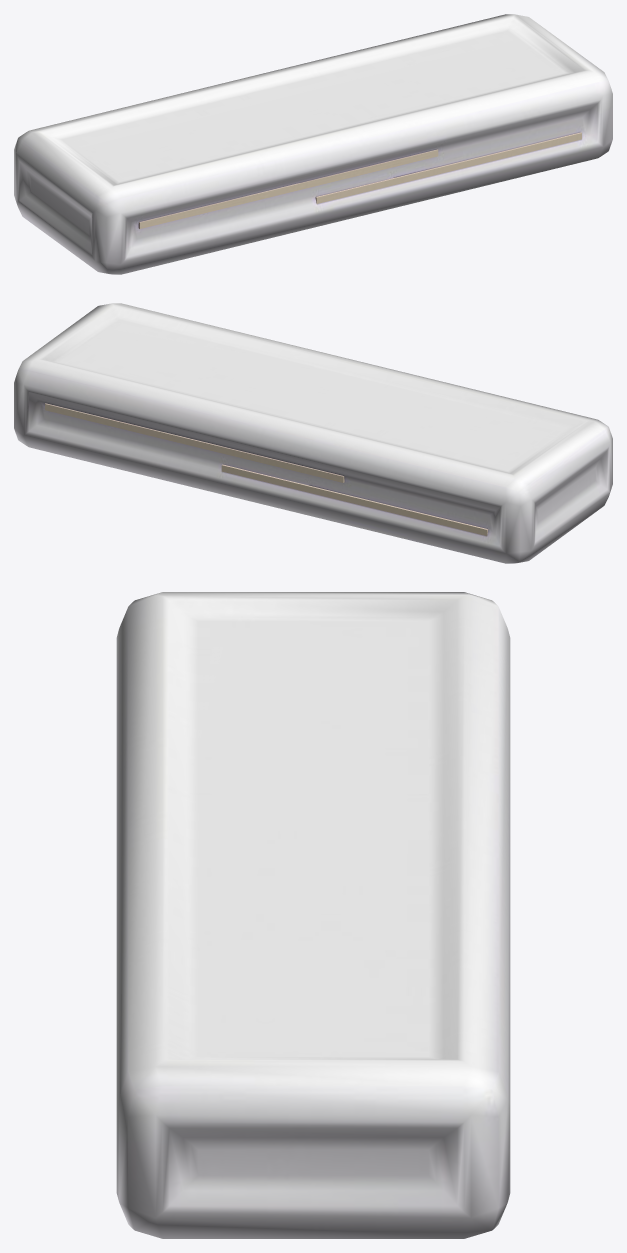
Rendered from kalas3.glb.
3 renders of one model, top to bottom at view 1: azimuth 30°, elevation 25°; view 2: azimuth 150°, elevation 25°; view 3: azimuth 270°, elevation 25°, orthographic. The views are drawn at different scales.
Parts seen in each view (by area): view 1: kalas3; view 2: kalas3; view 3: kalas3.
Part boxes in pixels (<box>): kalas3: <box>14,14,612,274</box>; kalas3: <box>14,303,612,563</box>; kalas3: <box>116,592,510,1238</box>.
Bounding box in the file's own units: 4.61 × 0.7402 × 1.52.
Materials: 1 (1 with a texture image).
